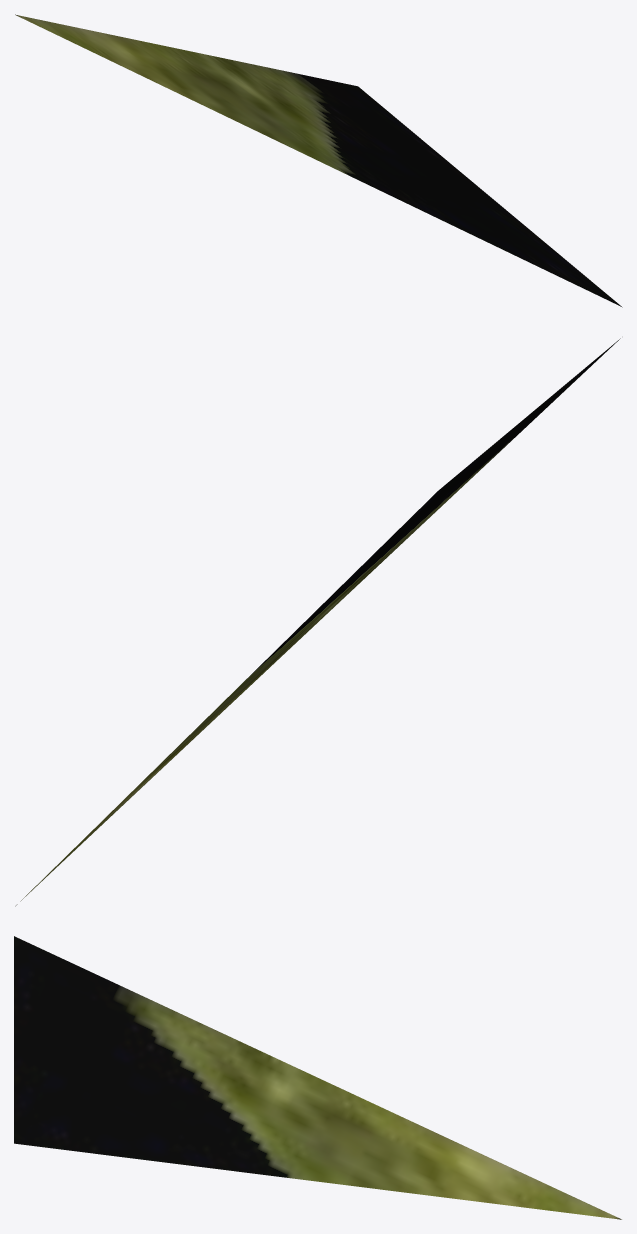
3 renders of one model, top to bottom at view 1: azimuth 30°, elevation 25°; view 2: azimuth 150°, elevation 25°; view 3: azimuth 270°, elevation 25°, orthographic. The views are drawn at different scales.
Size of the model in its own units: 0.3086 by 0.4883 by 1.23.
1 material, 1 textured.
